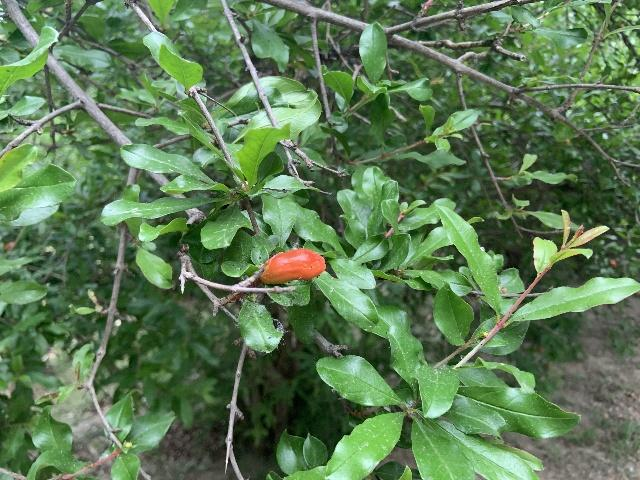bud: (260, 248, 325, 284)
